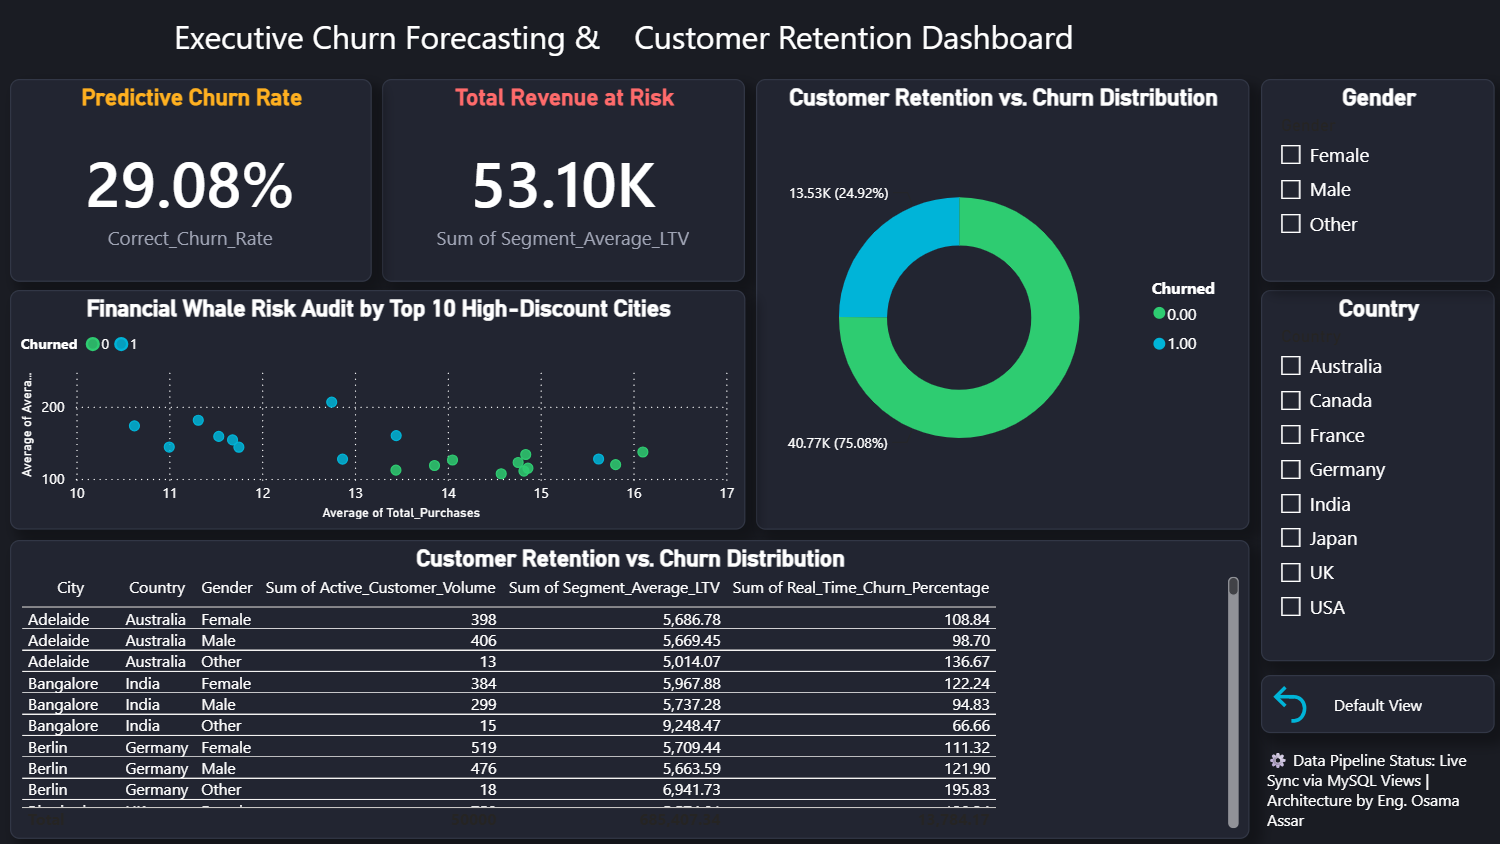

The page's visual inventory and layout, read from the dashboard file:
{"tool":"powerbi","page":{"name":"Executive Churn Overview","canvas":[1280,720],"ordinal":0},"visuals":[{"type":"cardVisual","title":"Total Revenue at Risk","fields":{"Data":["Sum(v_executive_marketing_dashboard.Segment_Average_LTV)"]},"box":[328.1,70.4,305.9,171.1],"z":0},{"type":"cardVisual","title":"Predictive Churn Rate","fields":{"Data":["v_executive_marketing_dashboard.Correct_Churn_Rate"]},"box":[14.1,70.4,304.9,171.1],"z":2000},{"type":"donutChart","title":"Customer Retention vs. Churn Distribution","fields":{"Y":["Sum(v_financial_risk_audit.Total_Purchases)"],"Category":["v_financial_risk_audit.Churned"]},"box":[643,70.4,415.6,380.4],"z":3000},{"type":"scatterChart","title":"Financial Whale Risk Audit by Top 10 High-Discount Cities","fields":{"X":["Avg(v_financial_risk_audit.Total_Purchases)"],"Y":["Avg(v_financial_risk_audit.Average_Order_Value)"],"Category":["v_financial_risk_audit.City"],"Series":["v_financial_risk_audit.Churned"]},"box":[14.1,248.6,619.9,202.3],"z":4000},{"type":"tableEx","title":"Customer Retention vs. Churn Distribution","fields":{"Values":["v_executive_marketing_dashboard.City","v_executive_marketing_dashboard.Country","v_executive_marketing_dashboard.Gender","Sum(v_executive_marketing_dashboard.Active_Customer_Volume)","Sum(v_executive_marketing_dashboard.Segment_Average_LTV)","Sum(v_executive_marketing_dashboard.Real_Time_Churn_Percentage)"]},"box":[14.1,459.9,1044.5,251.6],"z":5000},{"type":"textbox","box":[147.9,12.1,910.7,51.3],"z":6000},{"type":"slicer","title":"Country","fields":{"Values":["v_financial_risk_audit.Country"]},"box":[1068.7,248.6,197.2,313],"z":7000},{"type":"slicer","title":"Gender","fields":{"Values":["v_executive_marketing_dashboard.Gender"]},"box":[1068.7,70.4,197.2,171.1],"z":8000},{"type":"textbox","box":[1068.7,630.9,197.2,81.5],"z":9000},{"type":"actionButton","title":"Clear all active filters.","box":[1068.7,573.6,197.2,49.3],"z":10000}]}

Visuals, with their boxes in screenshot pixels (x1, y1, x2, y2), scaled from the page's 1280x720 canvas onto the 1500x844 screenshot:
"Total Revenue at Risk" cardVisual: BBox(384, 83, 743, 283)
"Predictive Churn Rate" cardVisual: BBox(17, 83, 374, 283)
"Customer Retention vs. Churn Distribution" donutChart: BBox(754, 83, 1241, 528)
"Financial Whale Risk Audit by Top 10 High-Discount Cities" scatterChart: BBox(17, 291, 743, 529)
"Customer Retention vs. Churn Distribution" tableEx: BBox(17, 539, 1241, 834)
textbox: BBox(173, 14, 1241, 74)
"Country" slicer: BBox(1252, 291, 1483, 658)
"Gender" slicer: BBox(1252, 83, 1483, 283)
textbox: BBox(1252, 740, 1483, 835)
"Clear all active filters." actionButton: BBox(1252, 672, 1483, 730)
